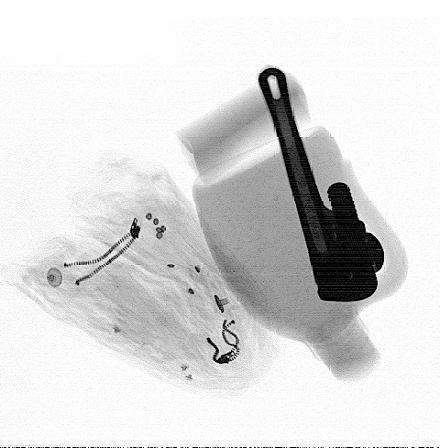Wrench: (257, 66, 386, 303)
